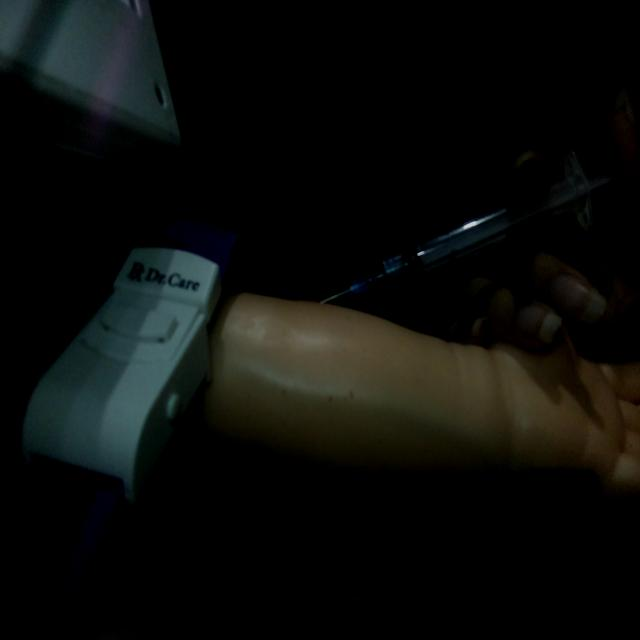15 degrees: (318, 146, 622, 307)
